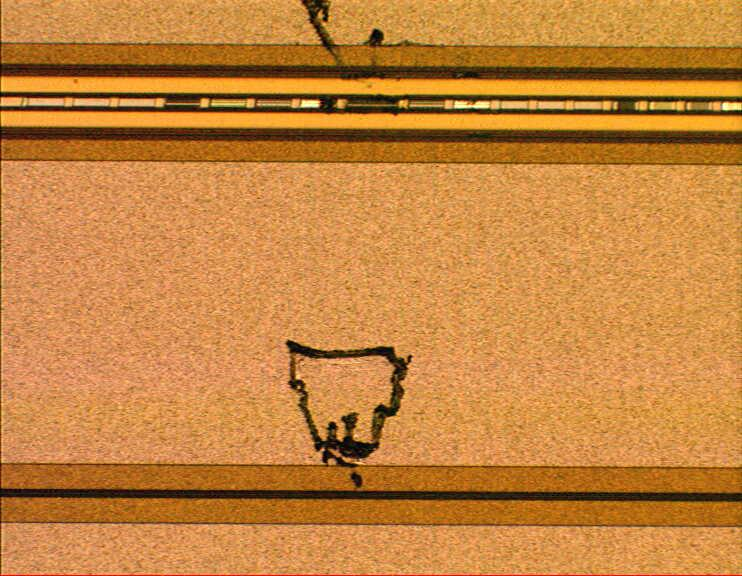SCRATCH: (275, 1, 494, 495)
